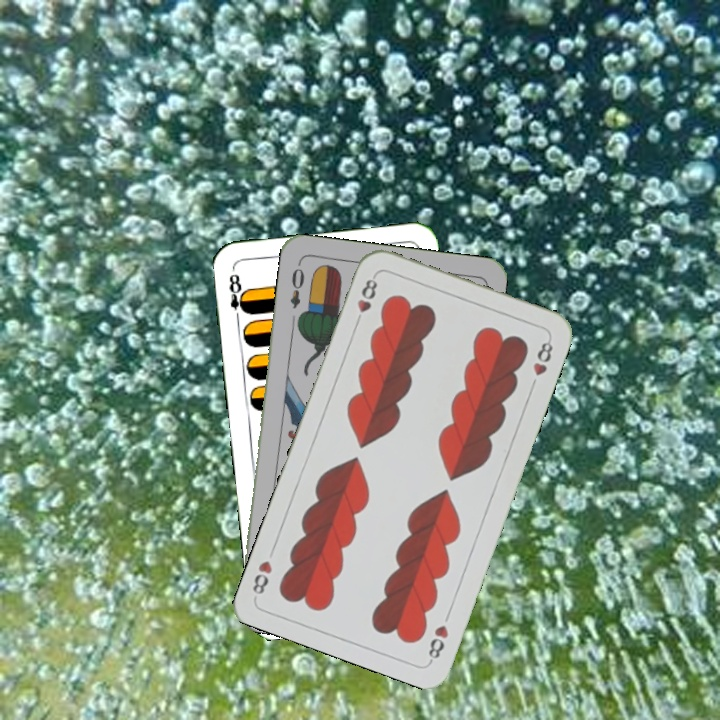E8: (224, 270, 250, 325)
EO: (285, 264, 307, 311)
H8: (351, 271, 380, 328), (424, 620, 451, 664)
